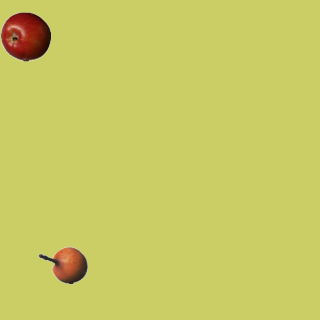Apple Braeburn: (0, 11, 50, 61)
Granadilla: (37, 240, 87, 290)
